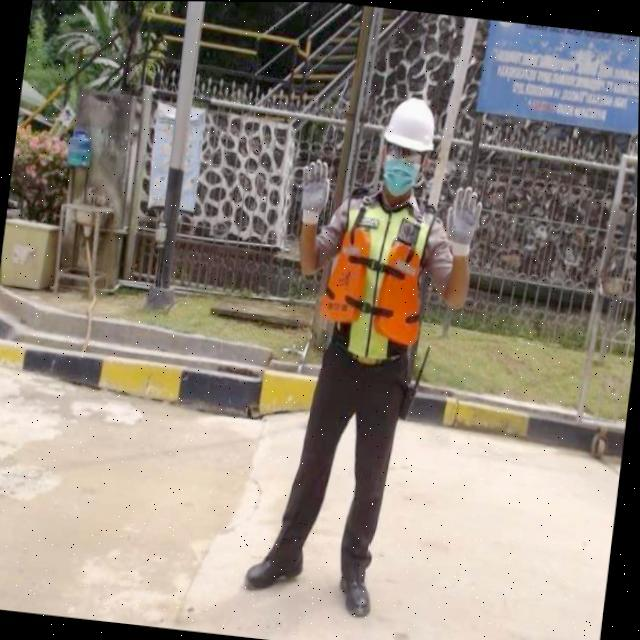goggles_on: (378, 139, 429, 166)
